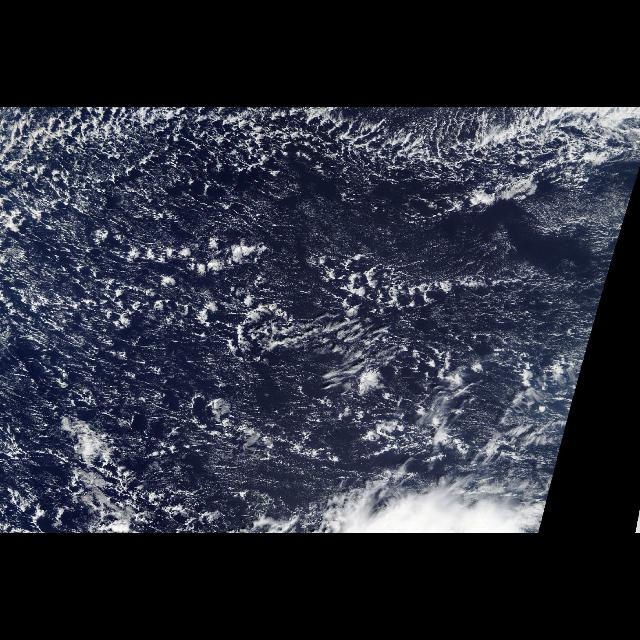Gravel: (0, 107, 574, 533)
Sugar: (278, 187, 624, 466)
